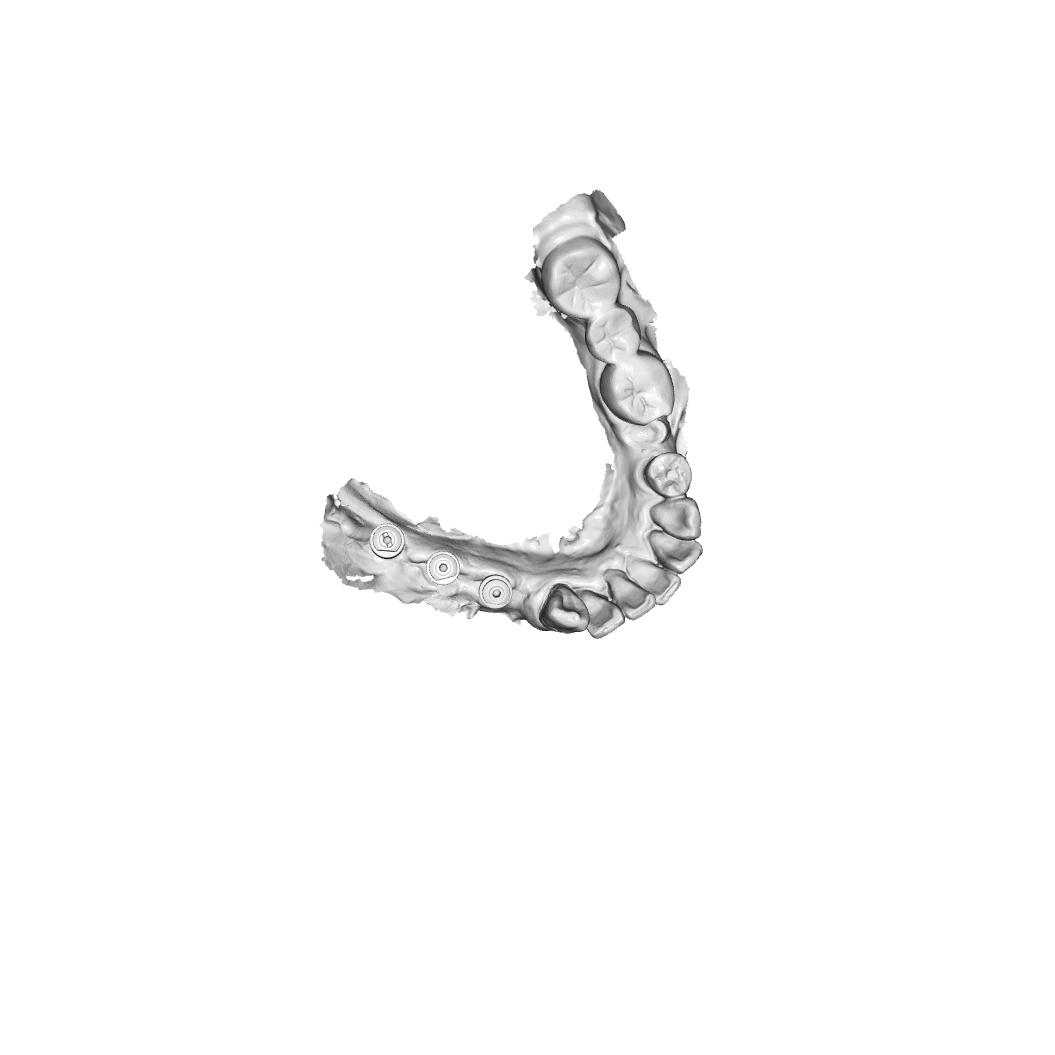canine: (539, 582, 591, 636), (649, 497, 703, 541)
implant: (478, 574, 514, 610), (426, 550, 460, 586)
implant_minus: (368, 522, 407, 560)
incisor: (606, 568, 656, 621), (578, 587, 626, 641), (649, 529, 704, 575), (630, 558, 682, 606)
molar: (541, 236, 622, 322), (598, 350, 676, 426), (584, 304, 642, 365)
premolar: (644, 451, 693, 498)
